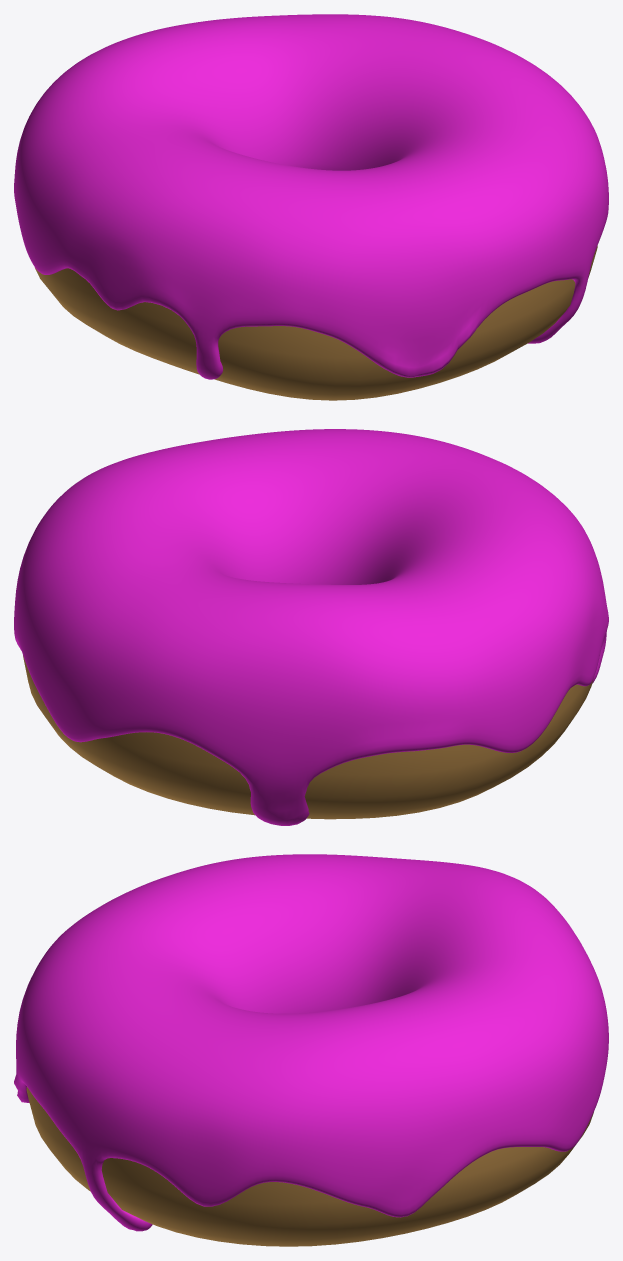
The model's file is chocolate.glb.
3 views of the same model, one above another, from view 1: azimuth 30°, elevation 25°; view 2: azimuth 150°, elevation 25°; view 3: azimuth 270°, elevation 25° (orthographic). The views are drawn at different scales.
Parts seen in each view (by area): view 1: Icing_1, Donut_0; view 2: Icing_1, Donut_0; view 3: Icing_1, Donut_0.
Part boxes in pixels (box(x1,y1,x2,y2)): Icing_1: box(14, 14, 608, 379); Donut_0: box(35, 246, 597, 400); Icing_1: box(14, 429, 608, 825); Donut_0: box(23, 655, 592, 819); Icing_1: box(14, 854, 608, 1231); Donut_0: box(26, 1087, 593, 1246).
Bounding box in the file's own units: 1.6 × 0.6735 × 1.6.
